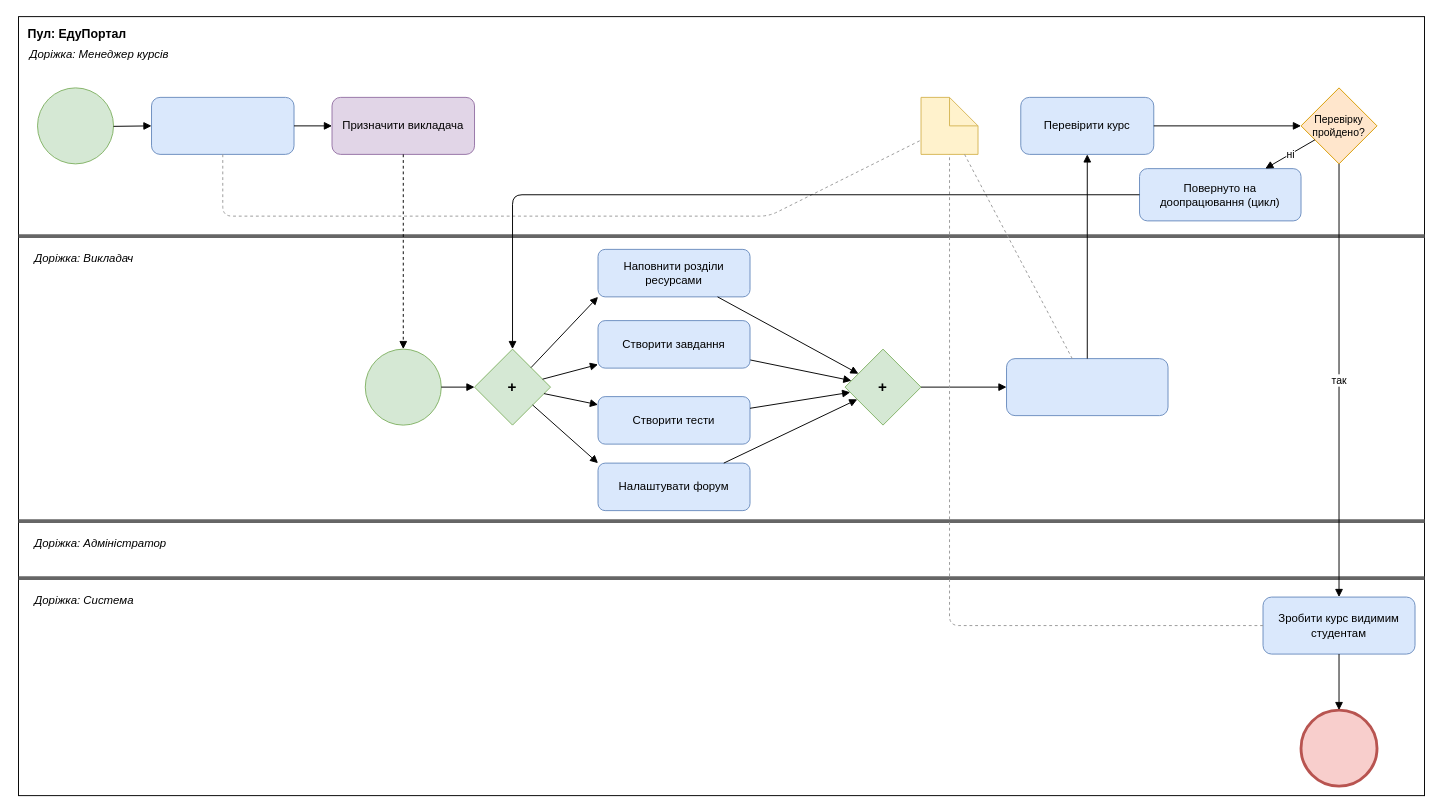
This 1442x812 diagram has some shape labels left out. Here are the shapes that lost their labels. From the top down, the centre of each, then its label:
[75,125]: Надійшла заявка навчального відділу
[222,125]: Створити курс у категорії з датами
[949,125]: Курс
[402,386]: Отримано призначення на курс
[1087,387]: Налаштувати самозарахування і кодове слово
[1338,747]: Курс опубліковано
